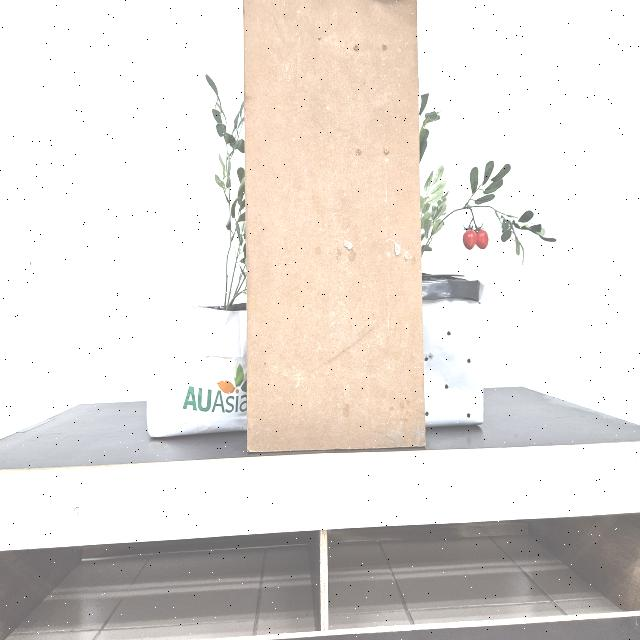Obstacle: (241, 0, 428, 458)
Soilbag: (364, 281, 485, 429), (145, 303, 247, 442)
Tomato: (461, 226, 494, 253)
plant: (417, 111, 556, 266), (205, 74, 247, 312)
